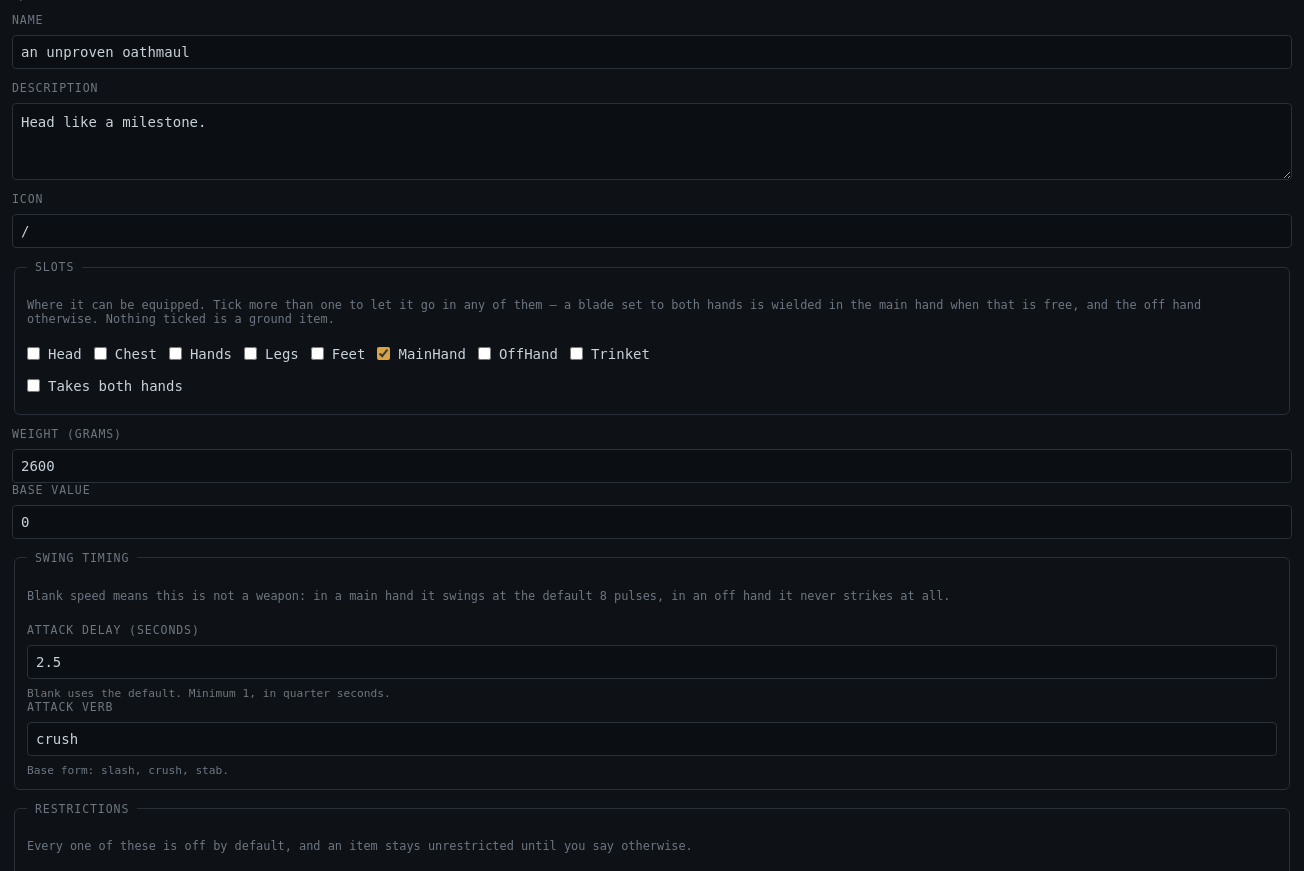
Test: says when a Path list can never be consulted
Click the checkbox labelled "MainHand": coordinates (384, 354) x1=378 y1=347 x2=390 y2=360
(page scrolled)
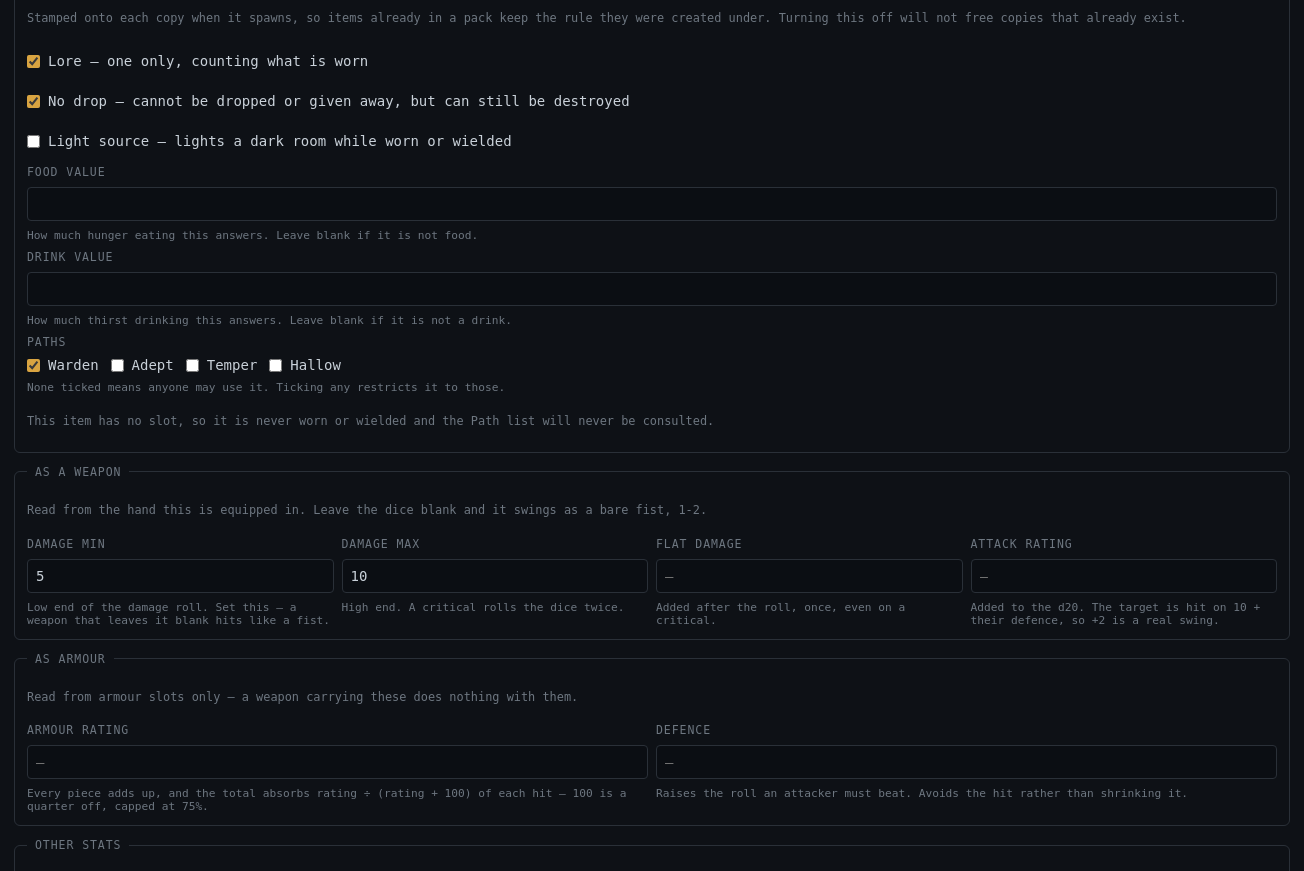
Check: the text "never worn or wielded" is shown, box x1=27 y1=414 x2=714 y2=428
